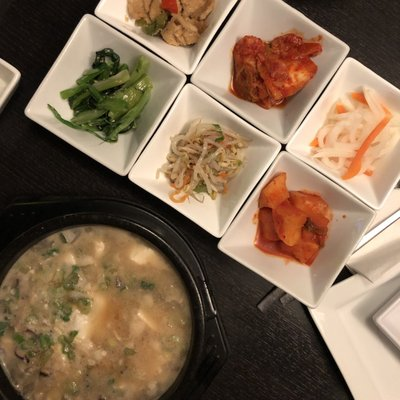curry: (55, 47, 154, 142), (63, 265, 80, 290)
sushi: (1, 198, 230, 400)
